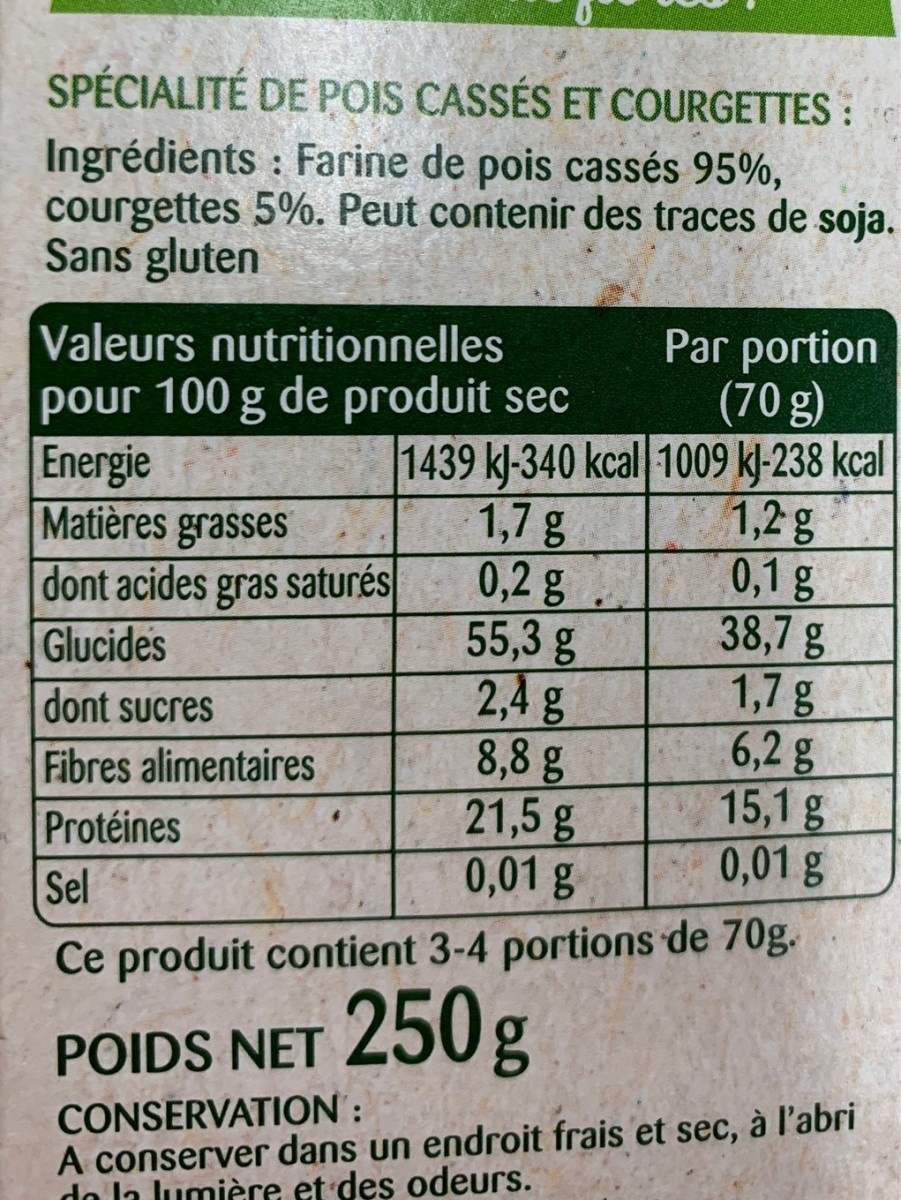column: (44, 438, 388, 919), (657, 323, 883, 904), (404, 437, 639, 911)
table: (25, 301, 891, 914)
